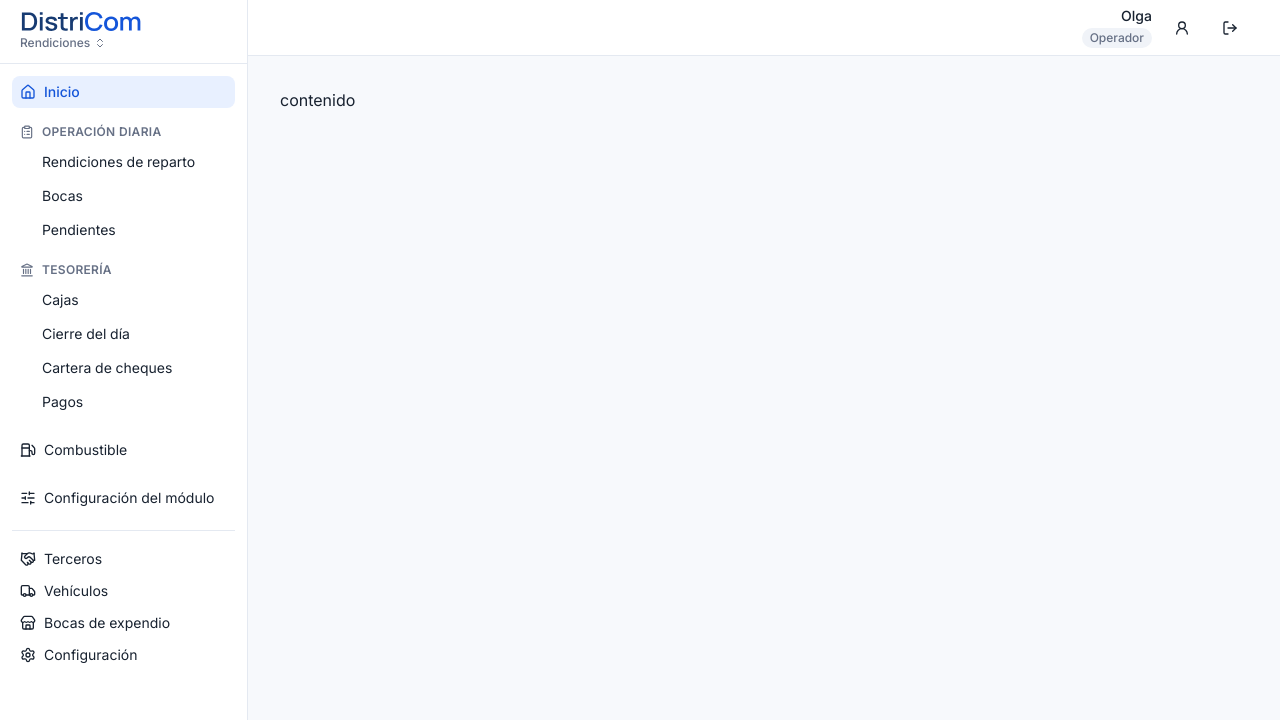
AppShell with Rendiciones › switches between modules from the menu under the wordmark
The image size is (1280, 720).
Click the button with aria-label "Cambiar de módulo" at (63, 44), box [16,36,110,52]
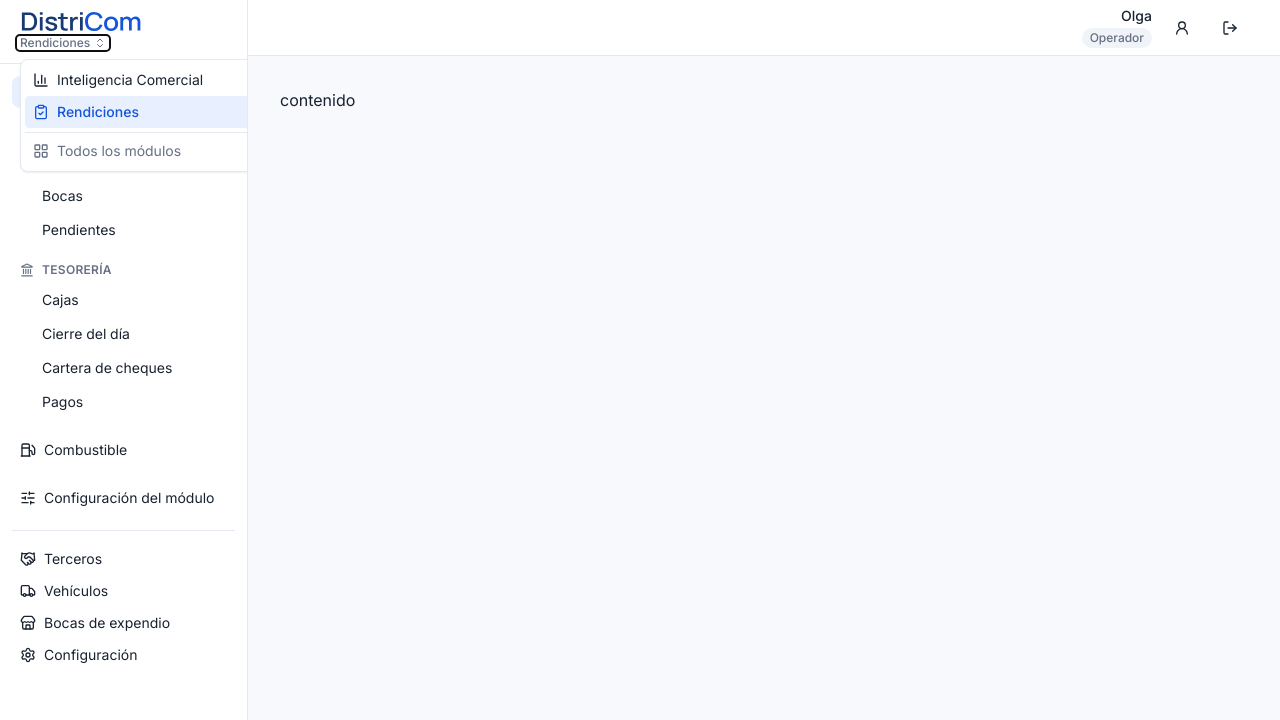
expect the navigation bar "módulos" shows "Inteligencia Comercial": met, box [25,64,248,96]
